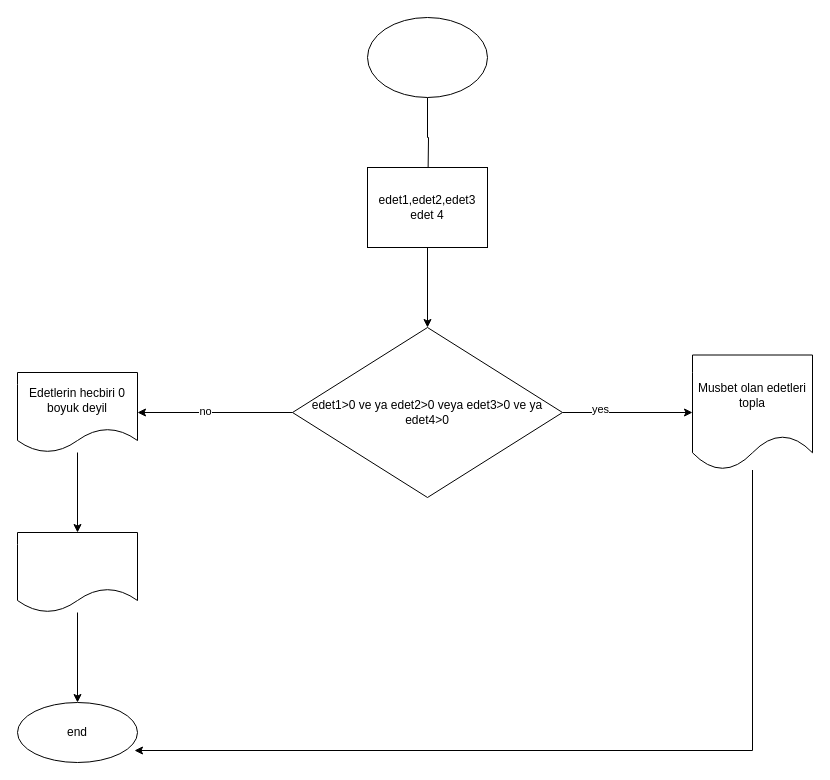
This 830x780 diagram has some shape labels left out. Here are the shapes that lost their labels. From the top down, the centre of each, then its label:
point 427,57: Start
point 77,572: Print o
